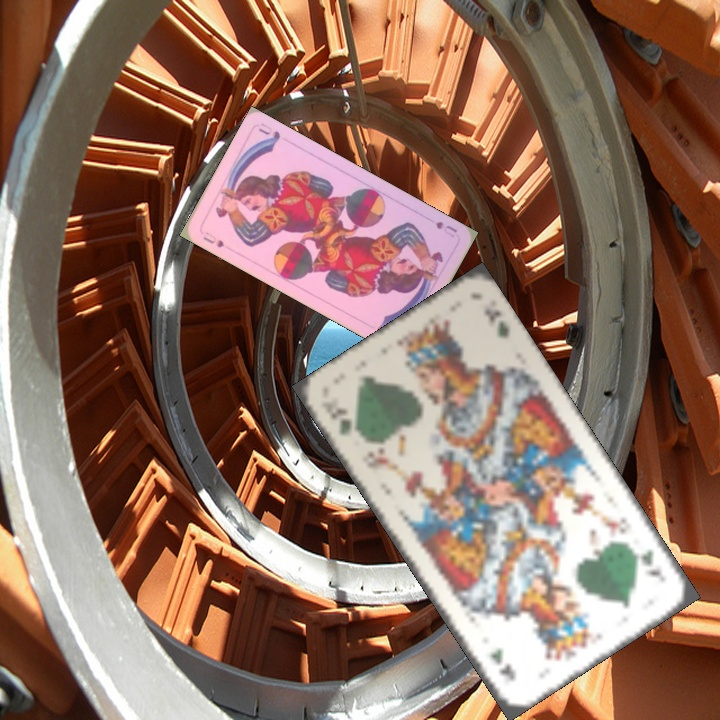GK: (626, 541, 668, 587), (333, 413, 364, 441)
SU: (431, 217, 460, 240), (199, 228, 227, 250)
